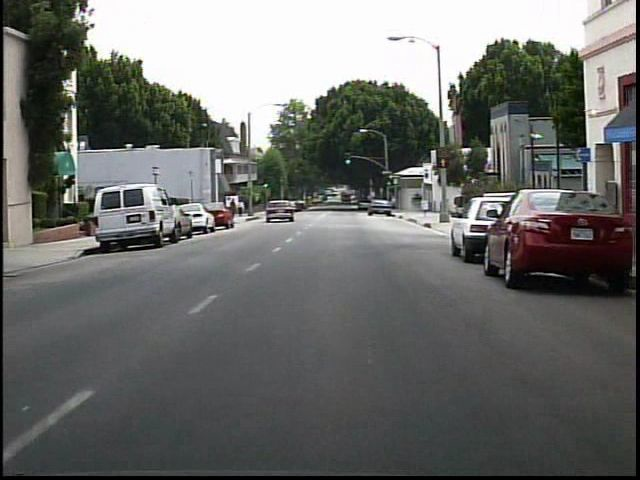person: (238, 198, 250, 221), (227, 197, 239, 220)
